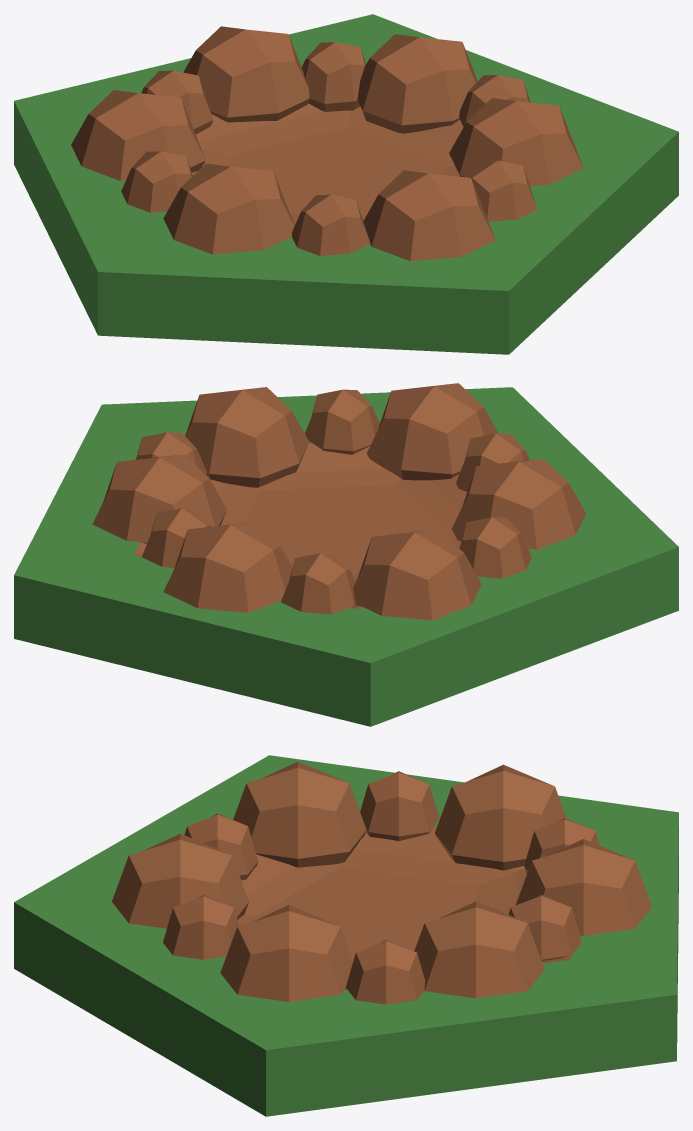
Rendered from Planet_Crater_Pentagon.fbx.
3 views of the same model, one above another, from view 1: azimuth 30°, elevation 25°; view 2: azimuth 150°, elevation 25°; view 3: azimuth 270°, elevation 25° (orthographic). The views are drawn at different scales.
Parts seen in each view (by area): view 1: polySurface10, pCube287, pCube294, pCube295, pCube285, pCube292, pCube289, pCube296, pCube286, pCube293, pCube290, pCube291 (+1 smaller); view 2: polySurface10, pCube289, pCube292, pCube295, pCube285, pCube294, pCube287, pCube290, pCube291, pCube293, pCube286, pCube296 (+1 smaller); view 3: polySurface10, pCube294, pCube289, pCube287, pCube292, pCube295, pCube285, pCube293, pCube288, pCube290, pCube286, pCube296 (+1 smaller).
Boxes of the visible parts, bbox=[...] form: polySurface10: bbox=[14, 14, 678, 354]; pCube287: bbox=[357, 34, 477, 133]; pCube294: bbox=[163, 163, 294, 254]; pCube295: bbox=[363, 170, 495, 261]; pCube285: bbox=[183, 26, 309, 122]; pCube292: bbox=[71, 90, 205, 180]; pCube289: bbox=[449, 98, 583, 186]; pCube296: bbox=[292, 194, 370, 256]; pCube286: bbox=[301, 42, 365, 111]; pCube293: bbox=[121, 151, 192, 212]; pCube290: bbox=[468, 160, 537, 221]; pCube291: bbox=[141, 70, 213, 134]; polySurface10: bbox=[14, 387, 678, 726]; pCube289: bbox=[185, 387, 309, 487]; pCube292: bbox=[353, 529, 481, 620]; pCube295: bbox=[366, 383, 498, 480]; pCube285: bbox=[163, 522, 292, 612]; pCube294: bbox=[451, 458, 585, 549]; pCube287: bbox=[92, 454, 226, 543]; pCube290: bbox=[305, 389, 379, 454]; pCube291: bbox=[281, 553, 355, 614]; pCube293: bbox=[459, 517, 531, 578]; pCube286: bbox=[142, 508, 211, 567]; pCube296: bbox=[456, 433, 529, 491]; polySurface10: bbox=[14, 755, 678, 1116]; pCube294: bbox=[233, 761, 366, 867]; pCube289: bbox=[220, 905, 353, 1001]; pCube287: bbox=[414, 901, 544, 998]; pCube292: bbox=[435, 764, 566, 870]; pCube295: bbox=[112, 833, 248, 928]; pCube285: bbox=[515, 839, 651, 935]; pCube293: bbox=[360, 771, 439, 841]; pCube288: bbox=[346, 939, 424, 1004]; pCube290: bbox=[163, 895, 239, 959]; pCube286: bbox=[508, 894, 581, 960]; pCube296: bbox=[184, 813, 258, 880].
Bounding box in the file's own units: 5.08 × 1.03 × 4.84.
